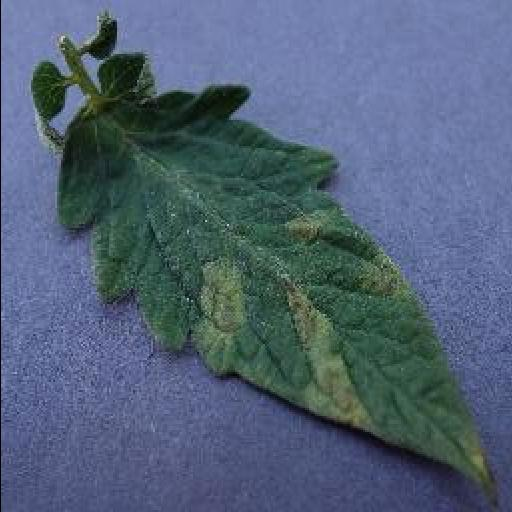disease_tomato: (52, 52, 496, 488)
